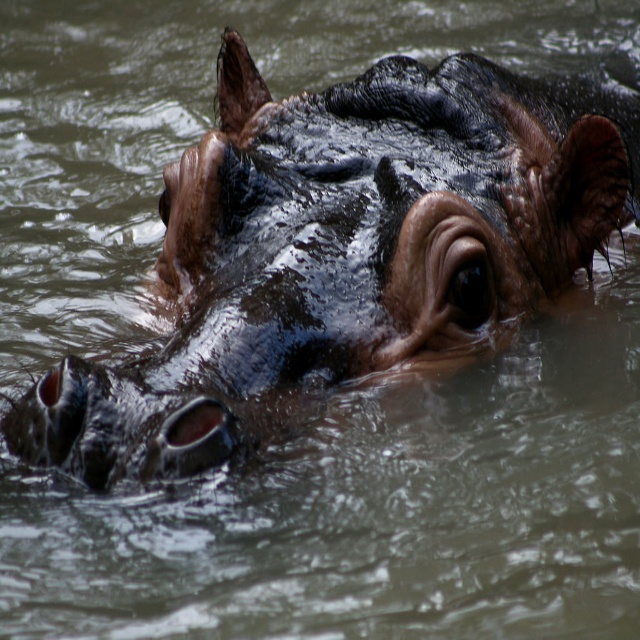Hippopotamus: (4, 26, 639, 494)
